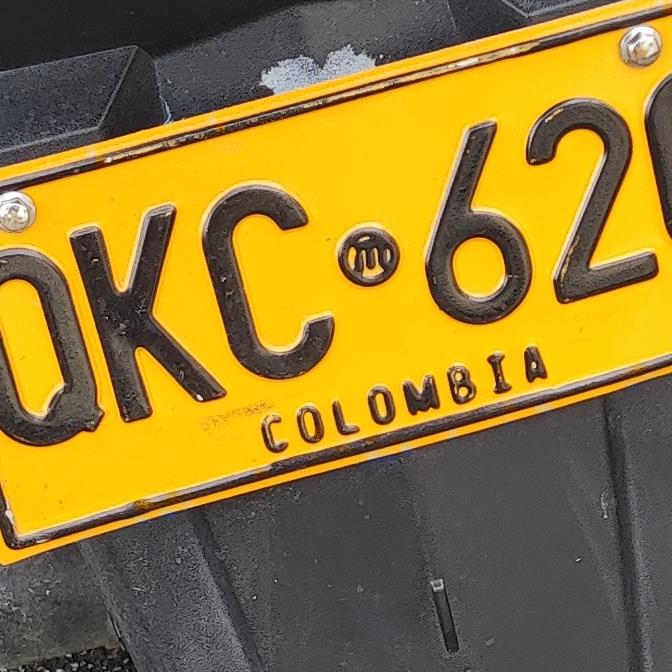plates: (0, 0, 672, 567)
